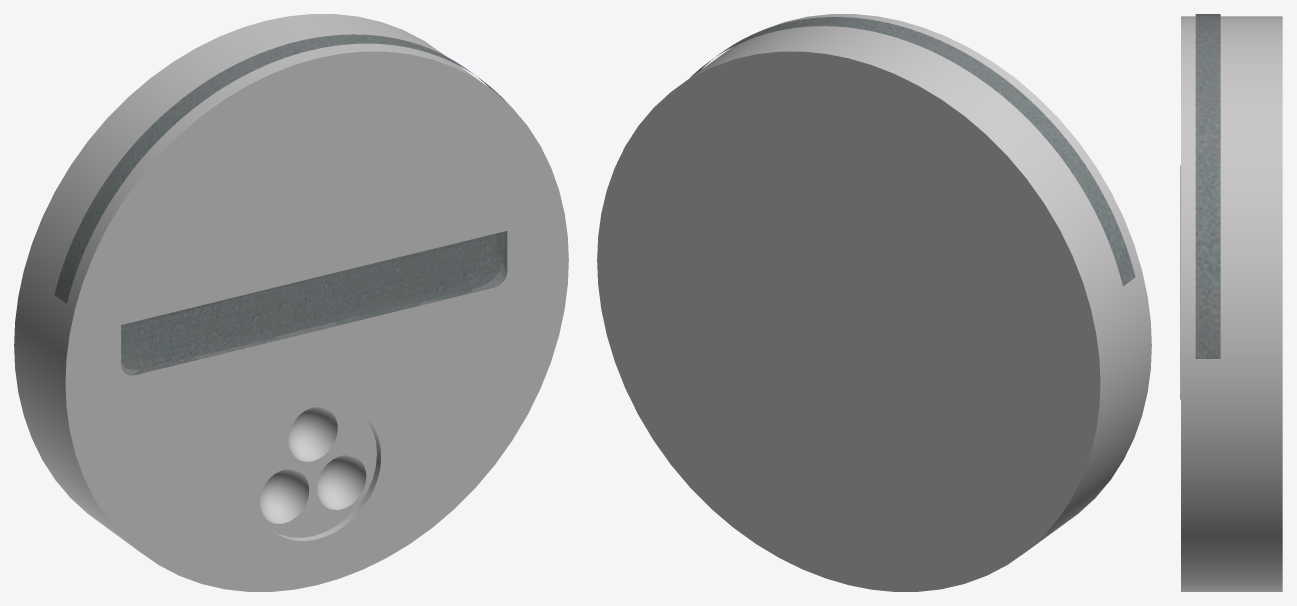
Rendered from registro1.obj.
The picture shows the model from 3 angles, left to right: view 1: azimuth 30°, elevation 25°; view 2: azimuth 150°, elevation 25°; view 3: azimuth 270°, elevation 25°; orthographic projection.
Parts seen in each view (by area): view 1: object_3, object_1, object_2; view 2: object_3, object_2; view 3: object_3, object_2, object_1.
Part boxes in pixels (left/top/right/bottom): object_3: left=14, top=14, right=568, bottom=591; object_1: left=121, top=231, right=507, bottom=375; object_2: left=54, top=34, right=508, bottom=303; object_3: left=597, top=14, right=1151, bottom=591; object_2: left=690, top=17, right=1135, bottom=286; object_3: left=1181, top=16, right=1282, bottom=591; object_2: left=1195, top=14, right=1220, bottom=358; object_1: left=1180, top=165, right=1180, bottom=399.
Size of the model in its own units: 49.52 by 49.73 by 8.81.
